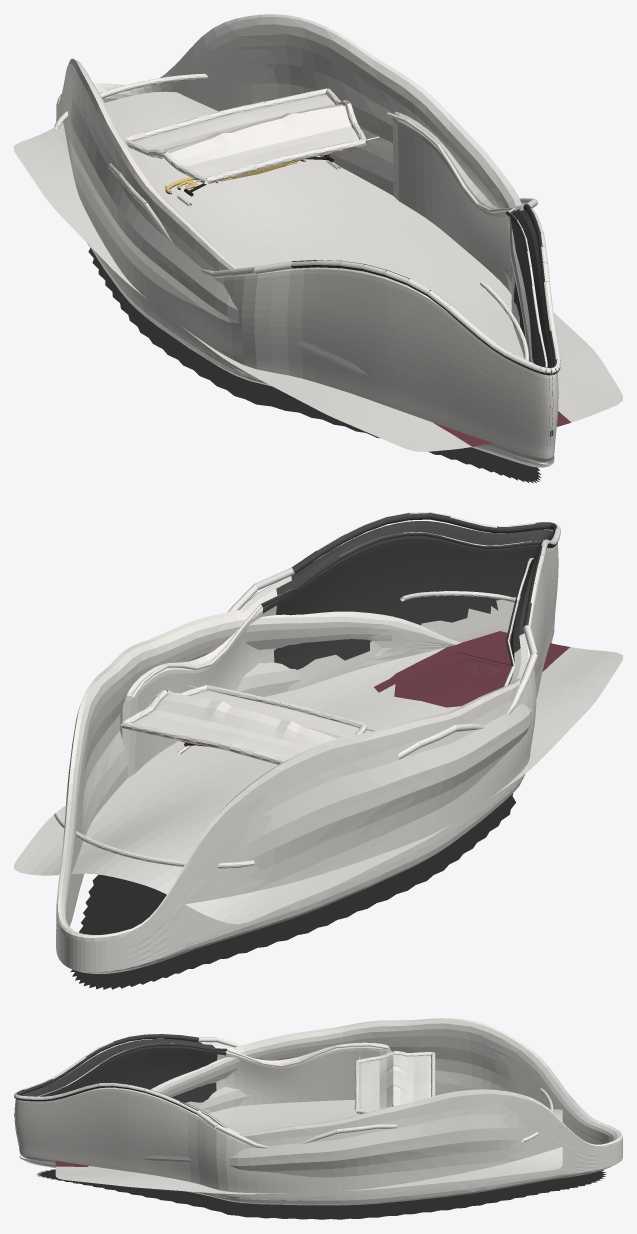
File: shoe.glb
3 views of the same model, one above another, from view 1: azimuth 30°, elevation 25°; view 2: azimuth 150°, elevation 25°; view 3: azimuth 270°, elevation 25° (orthographic). The views are drawn at different scales.
Parts seen in each view (by area): view 1: Cover, Body, Inner, Upper, Sole, Buckle; view 2: Body, Cover, Inner, Sole, Upper, Logo; view 3: Body, Cover, Inner, Sole, Upper.
Boxes of the visible parts, x1=… form: Cover: x1=108, y1=111, x2=560, y2=463; Body: x1=54, y1=14, x2=554, y2=467; Inner: x1=14, y1=91, x2=622, y2=451; Upper: x1=123, y1=88, x2=379, y2=206; Sole: x1=87, y1=243, x2=540, y2=483; Buckle: x1=165, y1=149, x2=351, y2=196; Body: x1=54, y1=591, x2=554, y2=973; Cover: x1=120, y1=512, x2=560, y2=851; Inner: x1=14, y1=631, x2=622, y2=924; Sole: x1=70, y1=793, x2=515, y2=989; Upper: x1=121, y1=685, x2=375, y2=764; Logo: x1=434, y1=651, x2=511, y2=683; Body: x1=19, y1=1018, x2=622, y2=1205; Cover: x1=14, y1=1034, x2=396, y2=1200; Inner: x1=55, y1=1100, x2=562, y2=1194; Sole: x1=36, y1=1169, x2=606, y2=1219; Upper: x1=354, y1=1051, x2=435, y2=1114.
Size of the model in its own units: 0.1067 by 0.0587 by 0.2723.
